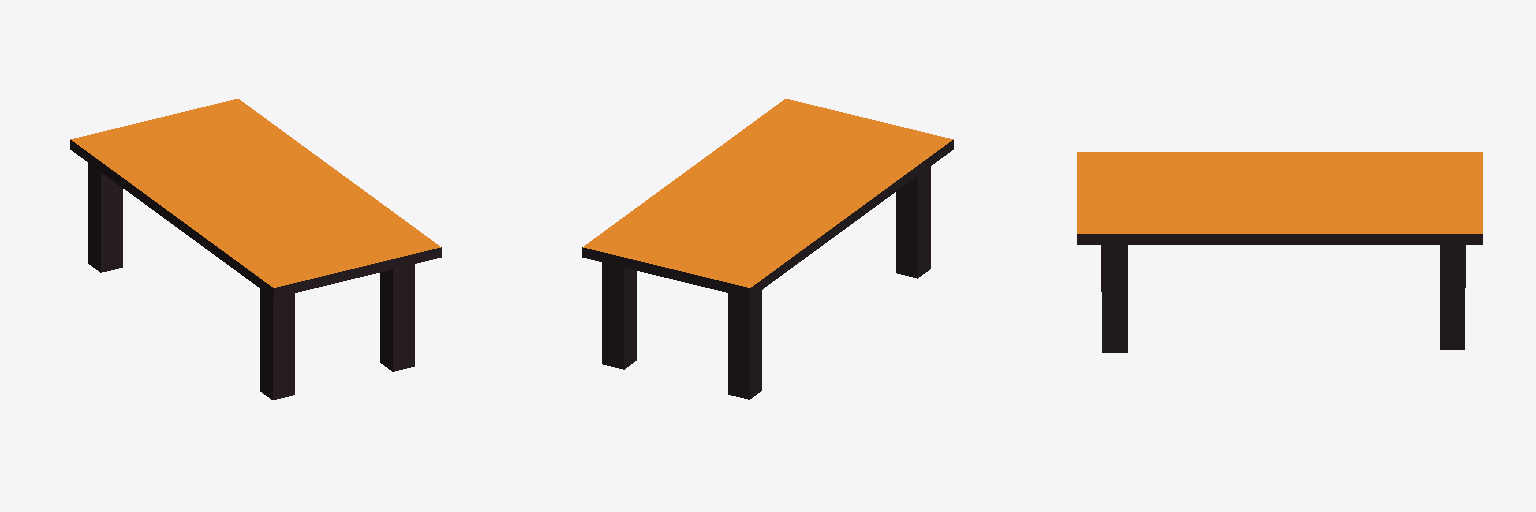
The model's file is table4.obj.
3 views of the same model, side by side, from view 1: azimuth 30°, elevation 25°; view 2: azimuth 150°, elevation 25°; view 3: azimuth 270°, elevation 25° (orthographic).
Parts seen in each view (by area): view 1: Mesh1 Model; view 2: Mesh1 Model; view 3: Mesh1 Model.
Boxes of the visible parts, <box> form: Mesh1 Model: <box>70,99,441,399</box>; Mesh1 Model: <box>582,99,953,399</box>; Mesh1 Model: <box>1077,152,1482,352</box>.
Size of the model in its own units: 19.04 by 13.58 by 39.94.